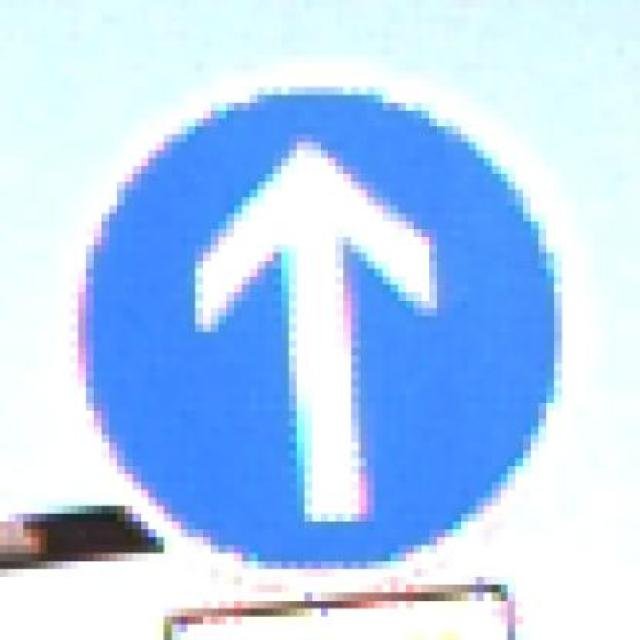Straight Ahead Only: (54, 63, 600, 577)
